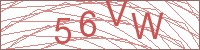5: (53, 16, 72, 45)
6: (78, 9, 97, 37)
V: (104, 1, 128, 27)
W: (130, 11, 166, 41)
